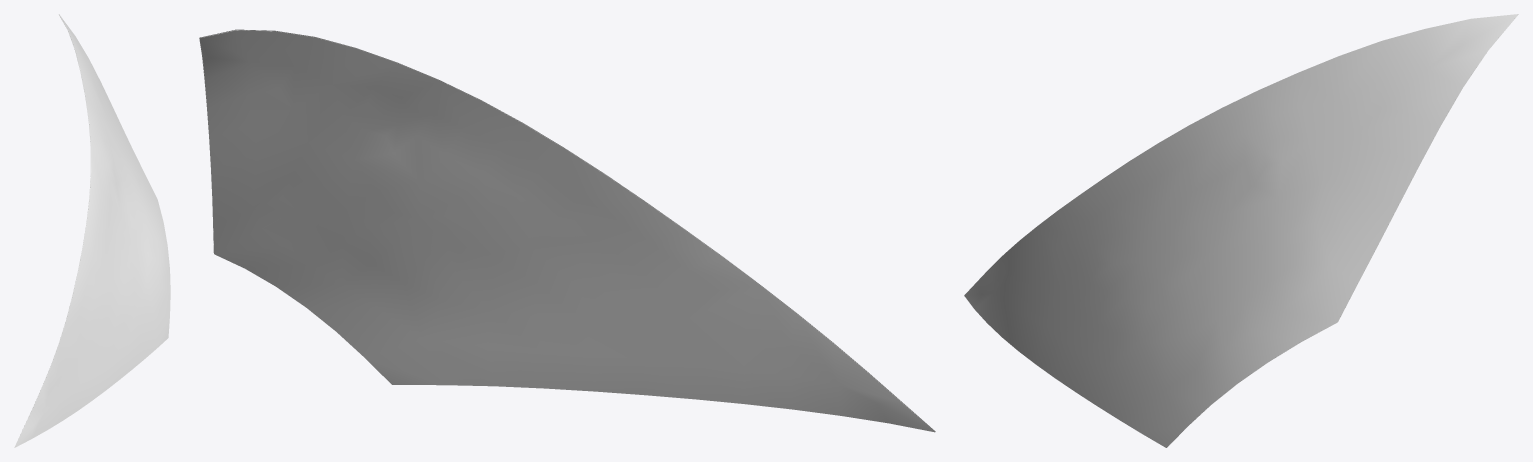
Rendered from Jac_Decor_Pocket_RIGHT.glb.
3 renders of one model, left to right at view 1: azimuth 30°, elevation 25°; view 2: azimuth 150°, elevation 25°; view 3: azimuth 270°, elevation 25°, orthographic. The views are drawn at different scales.
Visible parts, largest first — view 1: Jac_Decor_Pocket_RIGHT.001; view 2: Jac_Decor_Pocket_RIGHT.001; view 3: Jac_Decor_Pocket_RIGHT.001.
Boxes of the visible parts, bbox=[...] form: Jac_Decor_Pocket_RIGHT.001: bbox=[14, 14, 170, 447]; Jac_Decor_Pocket_RIGHT.001: bbox=[199, 29, 935, 432]; Jac_Decor_Pocket_RIGHT.001: bbox=[964, 14, 1518, 447].
Size of the model in its own units: 0.0814 by 0.0819 by 0.0906.
Materials: 1 (1 with a texture image).
